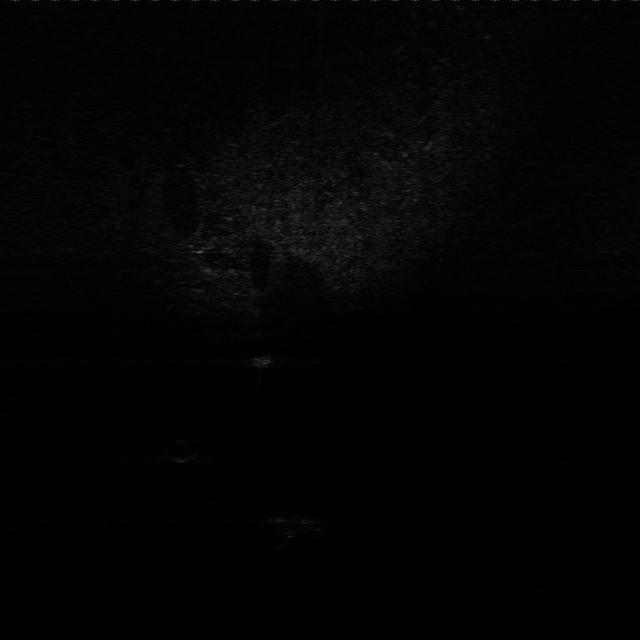ball: (166, 436, 200, 464)
circle cage: (262, 508, 341, 544)
cube: (250, 350, 276, 372)
